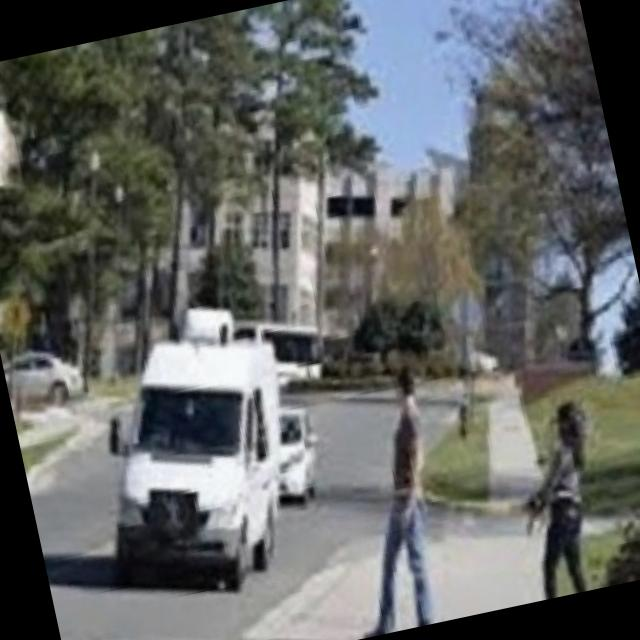Person: (298, 352, 481, 638), (483, 389, 632, 602)
